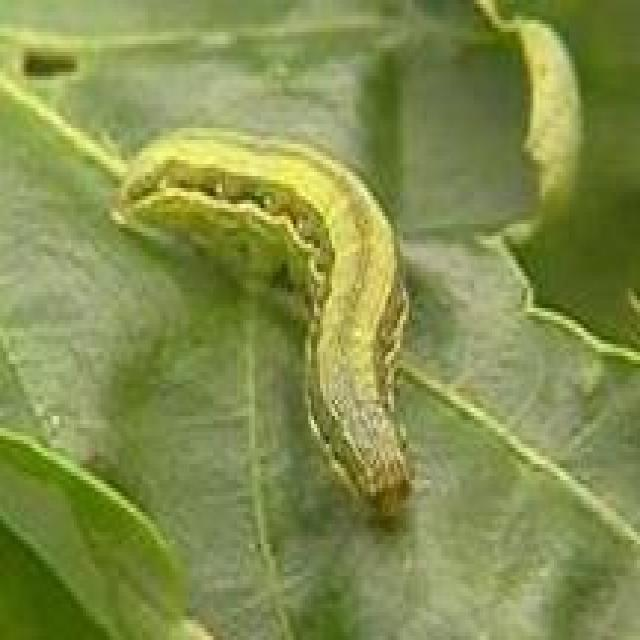BeetArmyWorm-Larva-: (101, 110, 435, 526)
